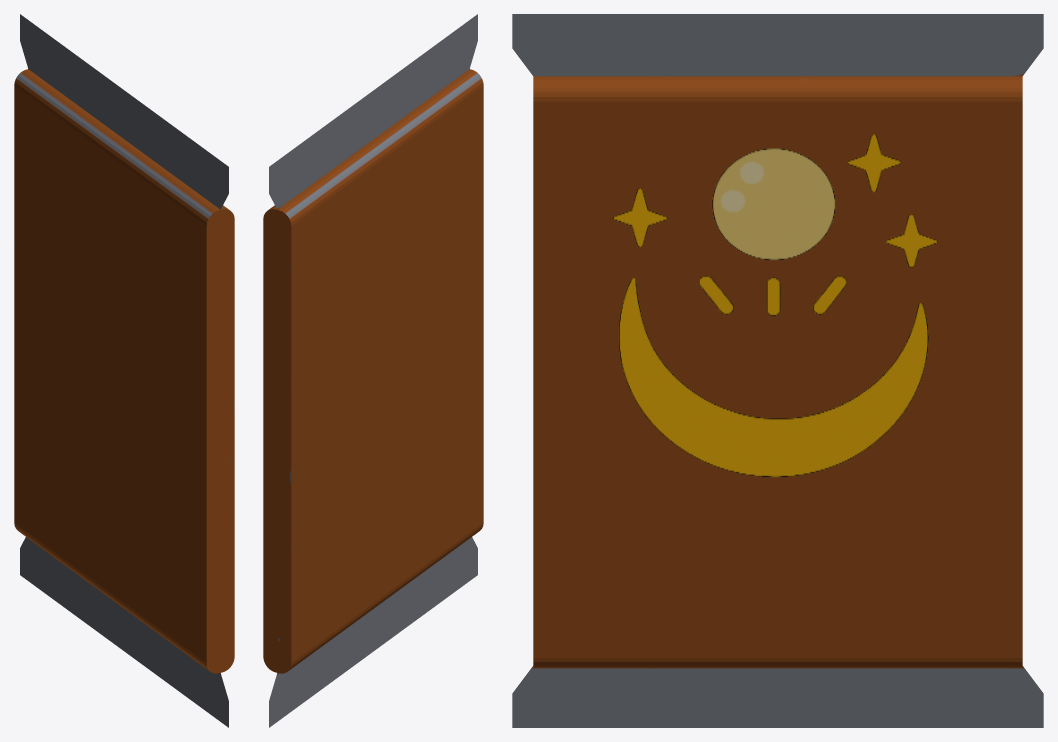
Rendered from booster_pack_oracle_remake.fbx.
The picture shows the model from 3 angles, left to right: view 1: azimuth 30°, elevation 25°; view 2: azimuth 150°, elevation 25°; view 3: azimuth 270°, elevation 25°; orthographic projection. The views are drawn at different scales.
Parts seen in each view (by area): view 1: Plane.002; view 2: Plane.002; view 3: Plane.002.
Part boxes in pixels (x1=…): Plane.002: x1=14, y1=14, x2=234, y2=727; Plane.002: x1=263, y1=14, x2=483, y2=727; Plane.002: x1=512, y1=14, x2=1043, y2=727.
Size of the model in its own units: 10.45 by 200 by 135.
